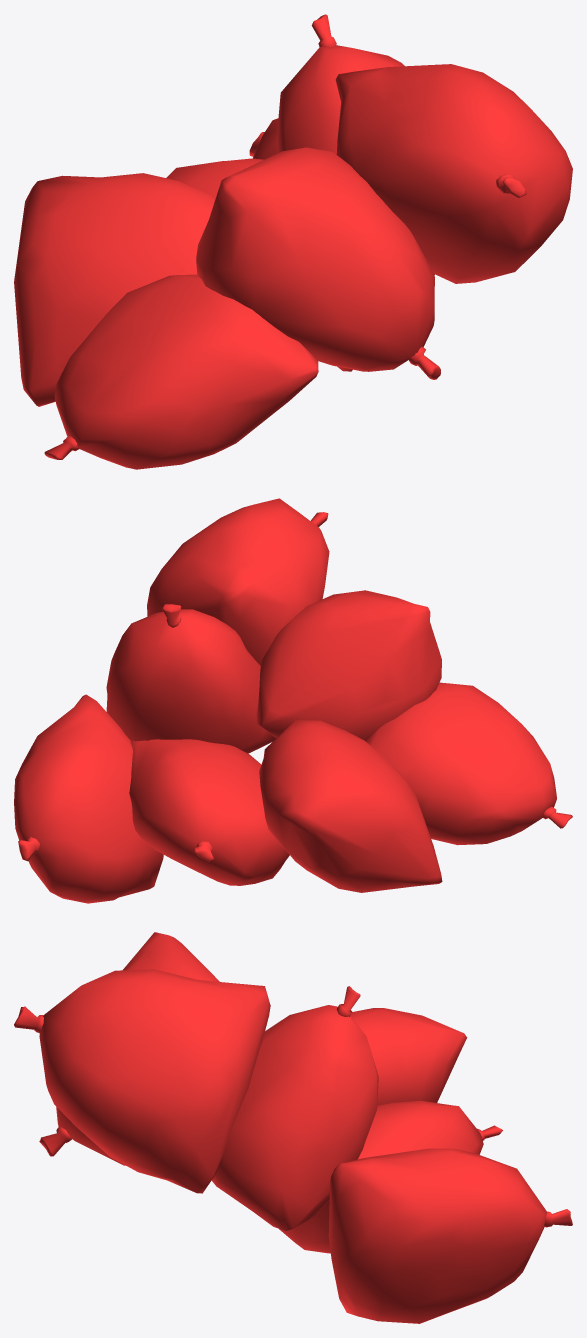
File: garbage_pile_01.fbx
The picture shows the model from 3 angles, top to bottom: view 1: azimuth 30°, elevation 25°; view 2: azimuth 150°, elevation 25°; view 3: azimuth 270°, elevation 25°; orthographic projection. The views are drawn at different scales.
Visible parts, largest first — view 1: Group46826; view 2: Group46826; view 3: Group46826.
Part boxes in pixels (<box>): Group46826: <box>14,14,572,469</box>; Group46826: <box>14,498,572,903</box>; Group46826: <box>14,932,572,1323</box>.
Size of the model in its own units: 281 by 194 by 294.
